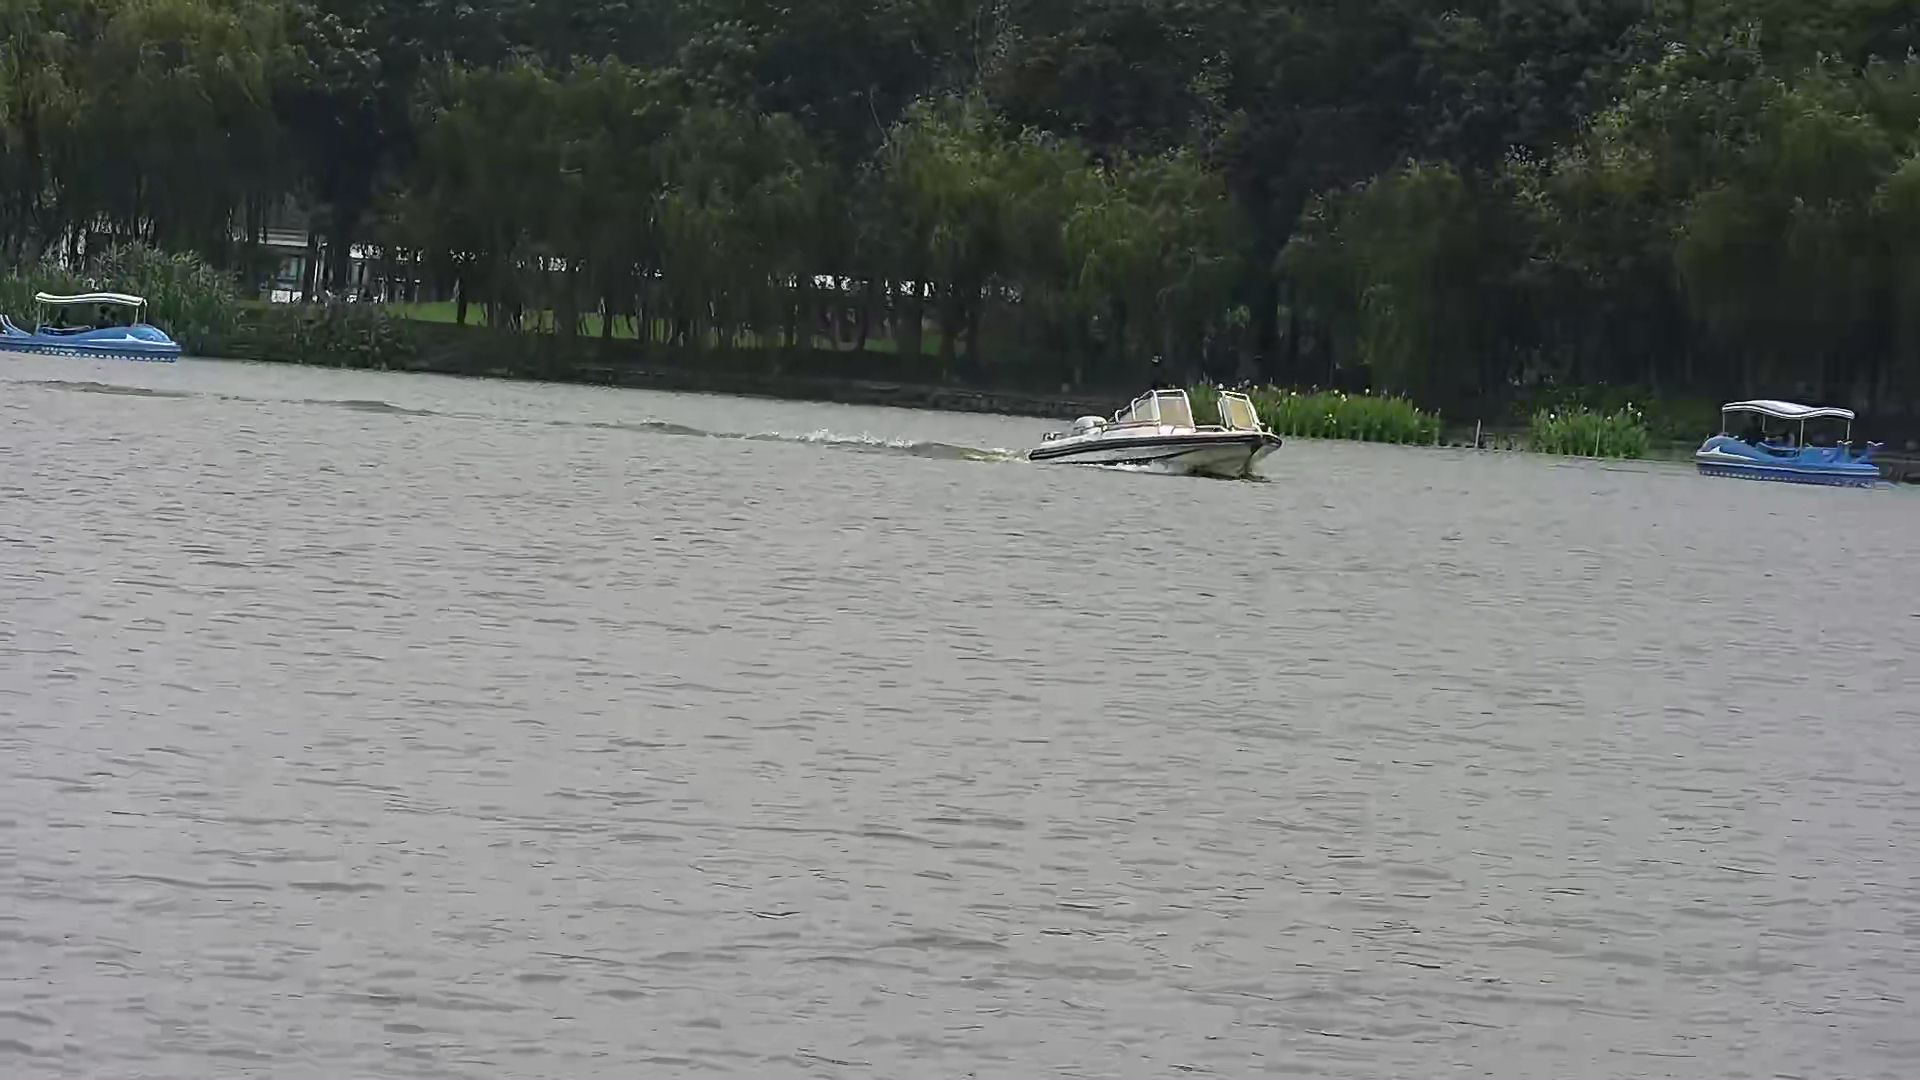boat: (1027, 378, 1276, 483), (1688, 388, 1894, 488), (3, 289, 181, 360)
